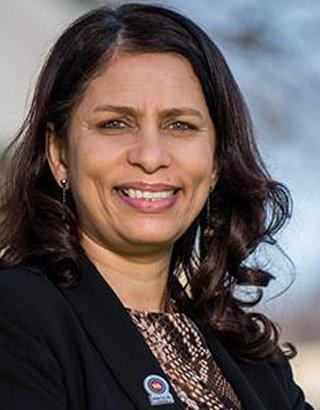Sober: (87, 65, 213, 232)
